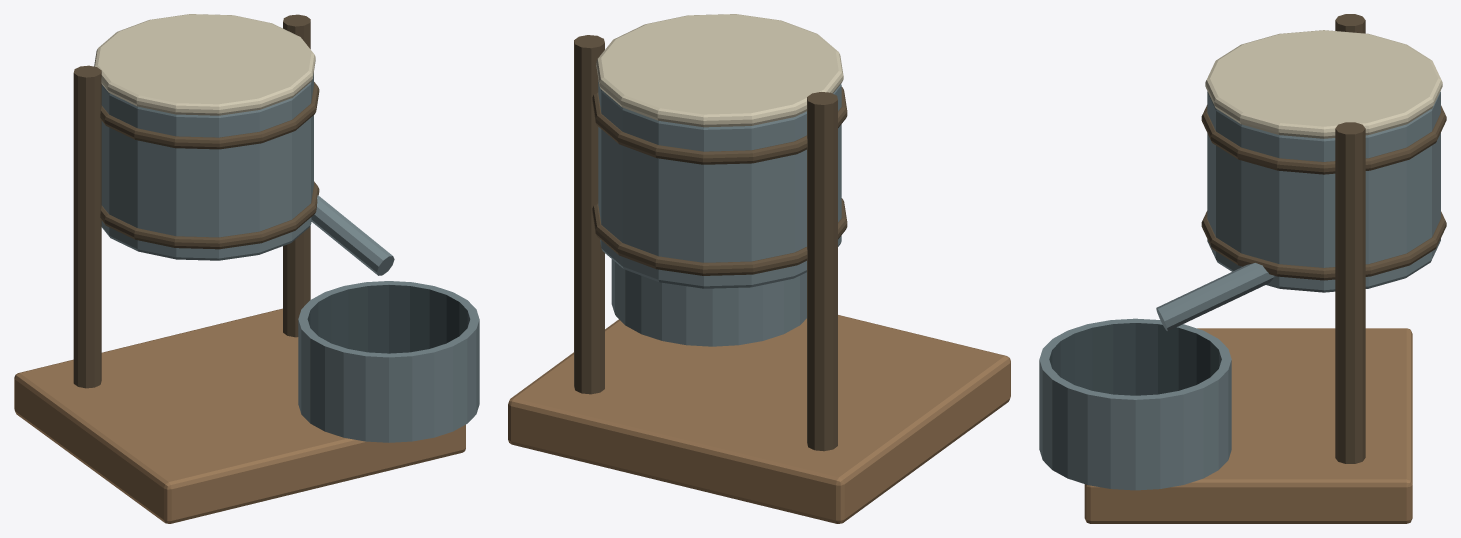
File: filter-waiting.glb
3 renders of one model, left to right at view 1: azimuth 30°, elevation 25°; view 2: azimuth 150°, elevation 25°; view 3: azimuth 270°, elevation 25°, orthographic. The views are drawn at different scales.
Parts seen in each view (by area): view 1: GEO-filter-54.001, GEO-filter-176.001, GEO-Filter-OpenBucket, GEO-filter-188.001, GEO-filter-82.002; view 2: GEO-filter-54.001, GEO-filter-176.001, GEO-filter-188.001, GEO-filter-82.002, GEO-Filter-OpenBucket; view 3: GEO-filter-54.001, GEO-Filter-OpenBucket, GEO-filter-176.001, GEO-filter-82.002, GEO-filter-188.001.
Part boxes in pixels (<box>): GEO-filter-54.001: <box>14,308,465,523</box>; GEO-filter-176.001: <box>101,72,394,275</box>; GEO-Filter-OpenBucket: <box>298,281,479,442</box>; GEO-filter-188.001: <box>73,14,319,388</box>; GEO-filter-82.002: <box>94,14,315,115</box>; GEO-filter-54.001: <box>508,315,1010,523</box>; GEO-filter-176.001: <box>598,80,841,288</box>; GEO-filter-188.001: <box>574,35,847,451</box>; GEO-filter-82.002: <box>596,14,843,127</box>; GEO-Filter-OpenBucket: <box>611,259,806,346</box>; GEO-filter-54.001: <box>1084,328,1412,523</box>; GEO-Filter-OpenBucket: <box>1039,318,1231,490</box>; GEO-filter-176.001: <box>1156,91,1440,331</box>; GEO-filter-82.002: <box>1205,30,1442,138</box>; GEO-filter-188.001: <box>1201,14,1446,463</box>.
Size of the model in its own units: 1.06 by 1.09 by 1.08.
